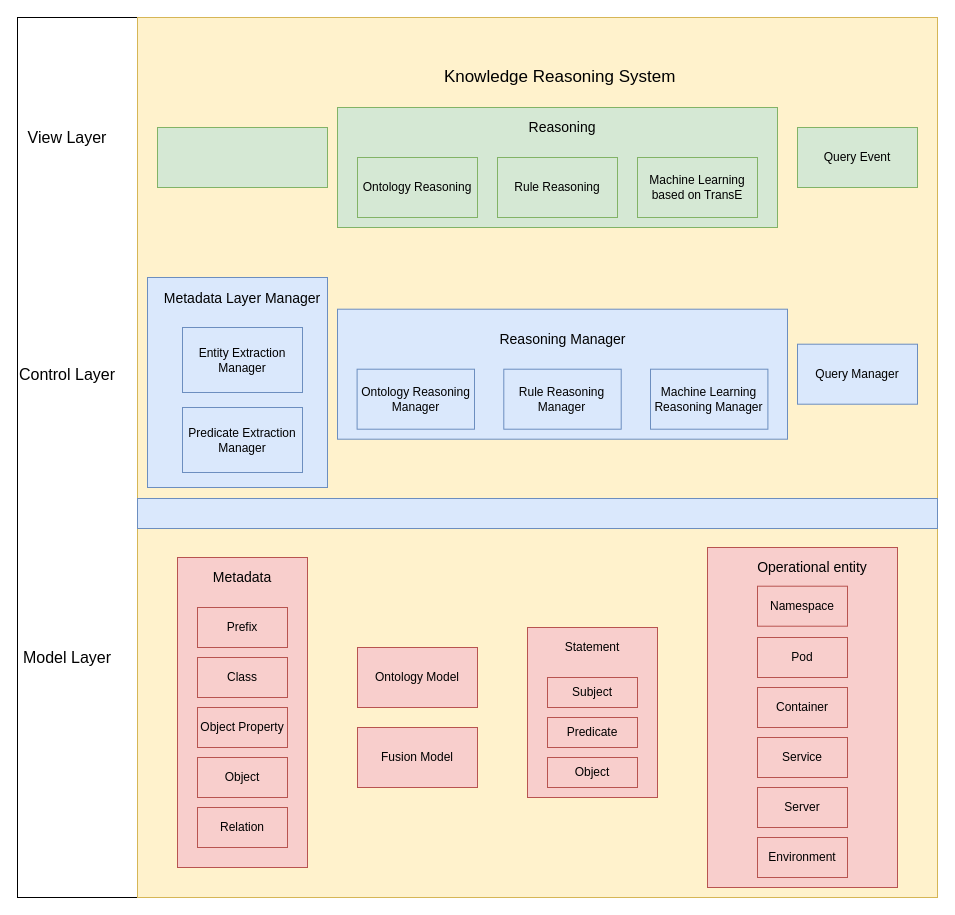
Image size: 955x915. Some labels were removed from this diagram. The centre of each missing label's shape, as x and y in pixels:
Construct Metadata Layer: (242,157)
Data Accessor: (537,513)
